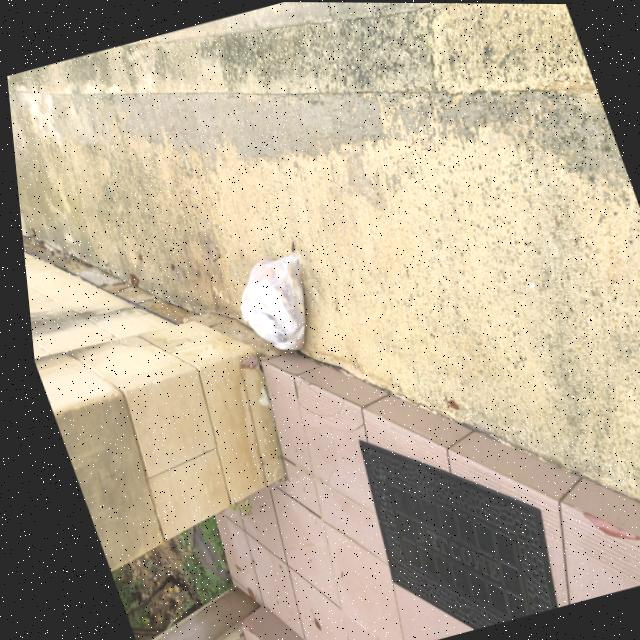Organic Waste -White Bag-: (219, 251, 324, 360)
